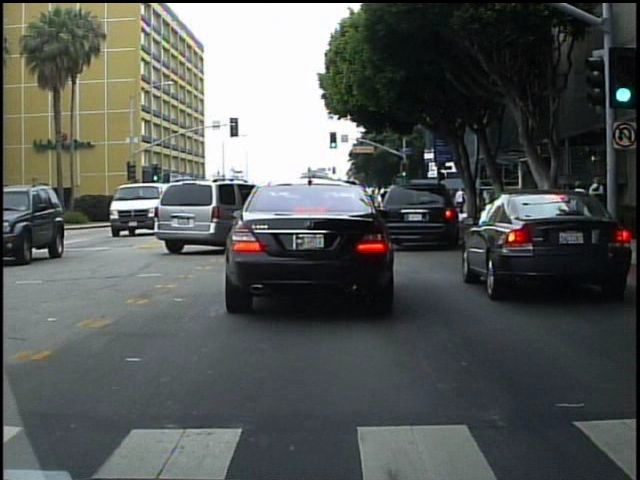person: (586, 173, 605, 232), (456, 185, 467, 216)
